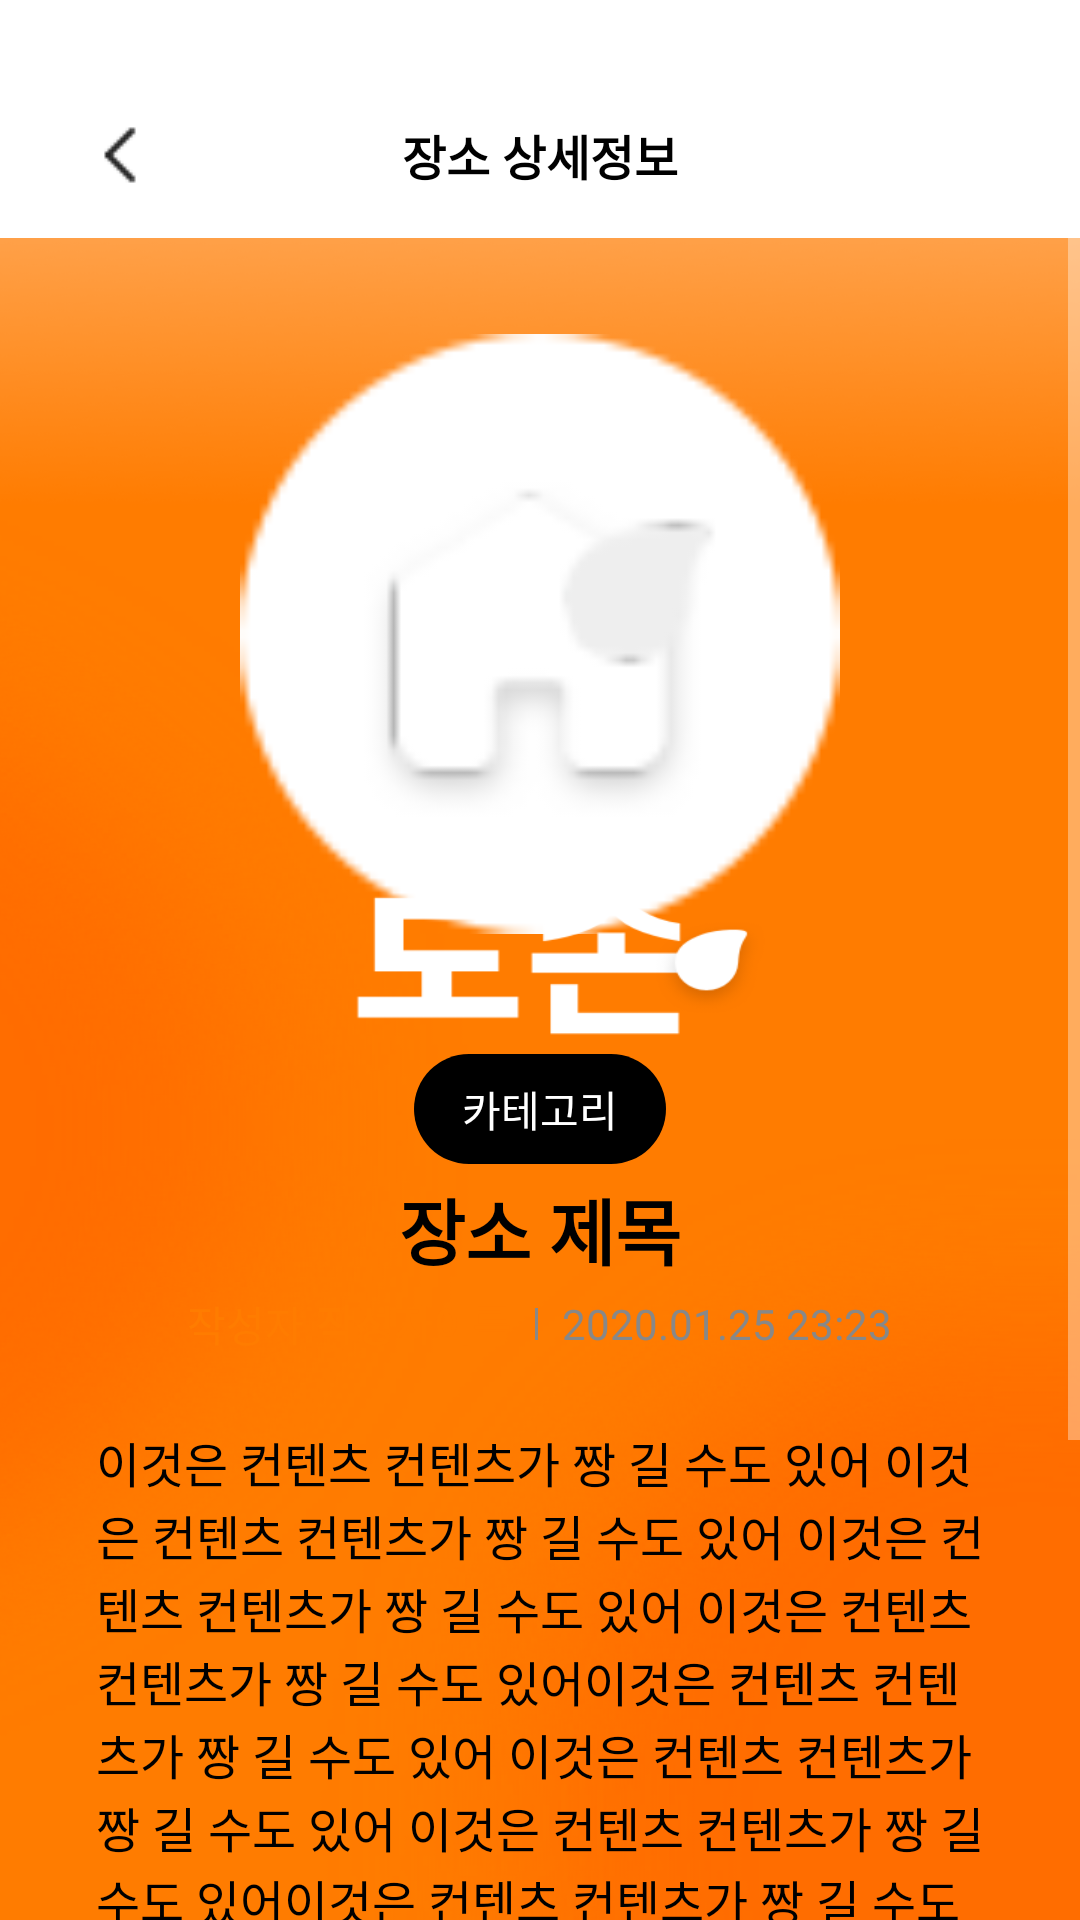

Icons on this 1080w x 1920h Android screen, each with its box as (x1, y1, x2, y2):
arrow left: (104, 127, 136, 183)
